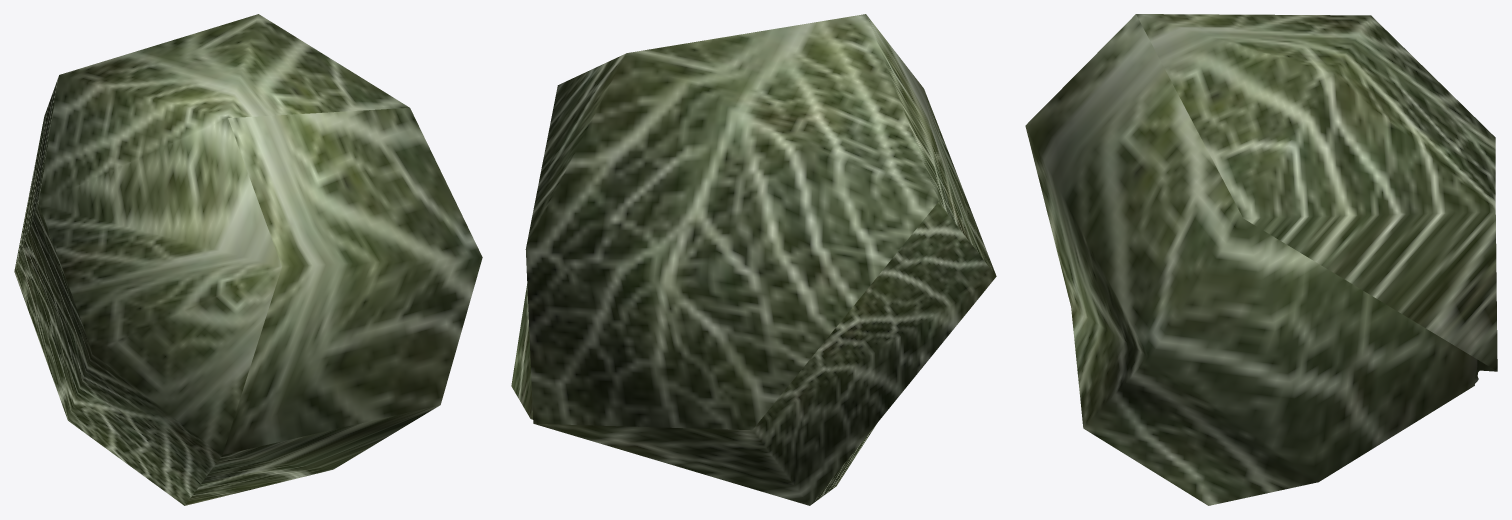
The model's file is GS_NATURE_CABBAGE_03_GALI.glb.
3 views of the same model, side by side, from view 1: azimuth 30°, elevation 25°; view 2: azimuth 150°, elevation 25°; view 3: azimuth 270°, elevation 25° (orthographic). The views are drawn at different scales.
Visible parts, largest first — view 1: Mesh; view 2: Mesh; view 3: Mesh.
Boxes of the visible parts, box(x1,y1,x2,y2) form: Mesh: box(14, 14, 482, 505); Mesh: box(511, 14, 996, 505); Mesh: box(1025, 14, 1497, 505).
Size of the model in its own units: 0.2491 by 0.2532 by 0.2553.
Materials: 1 (1 with a texture image).
